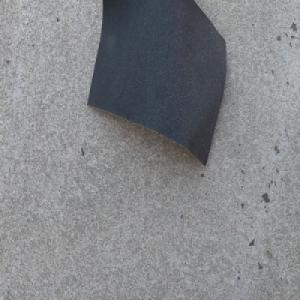PaintChip: (86, 0, 227, 168)
